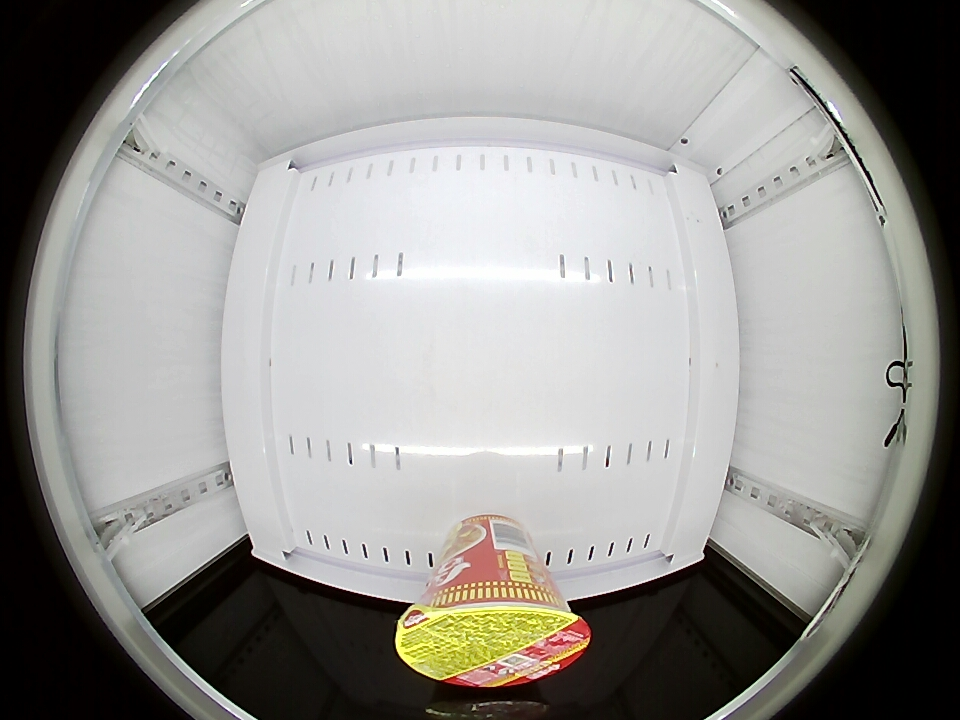heweidao3: (396, 571, 590, 688)
